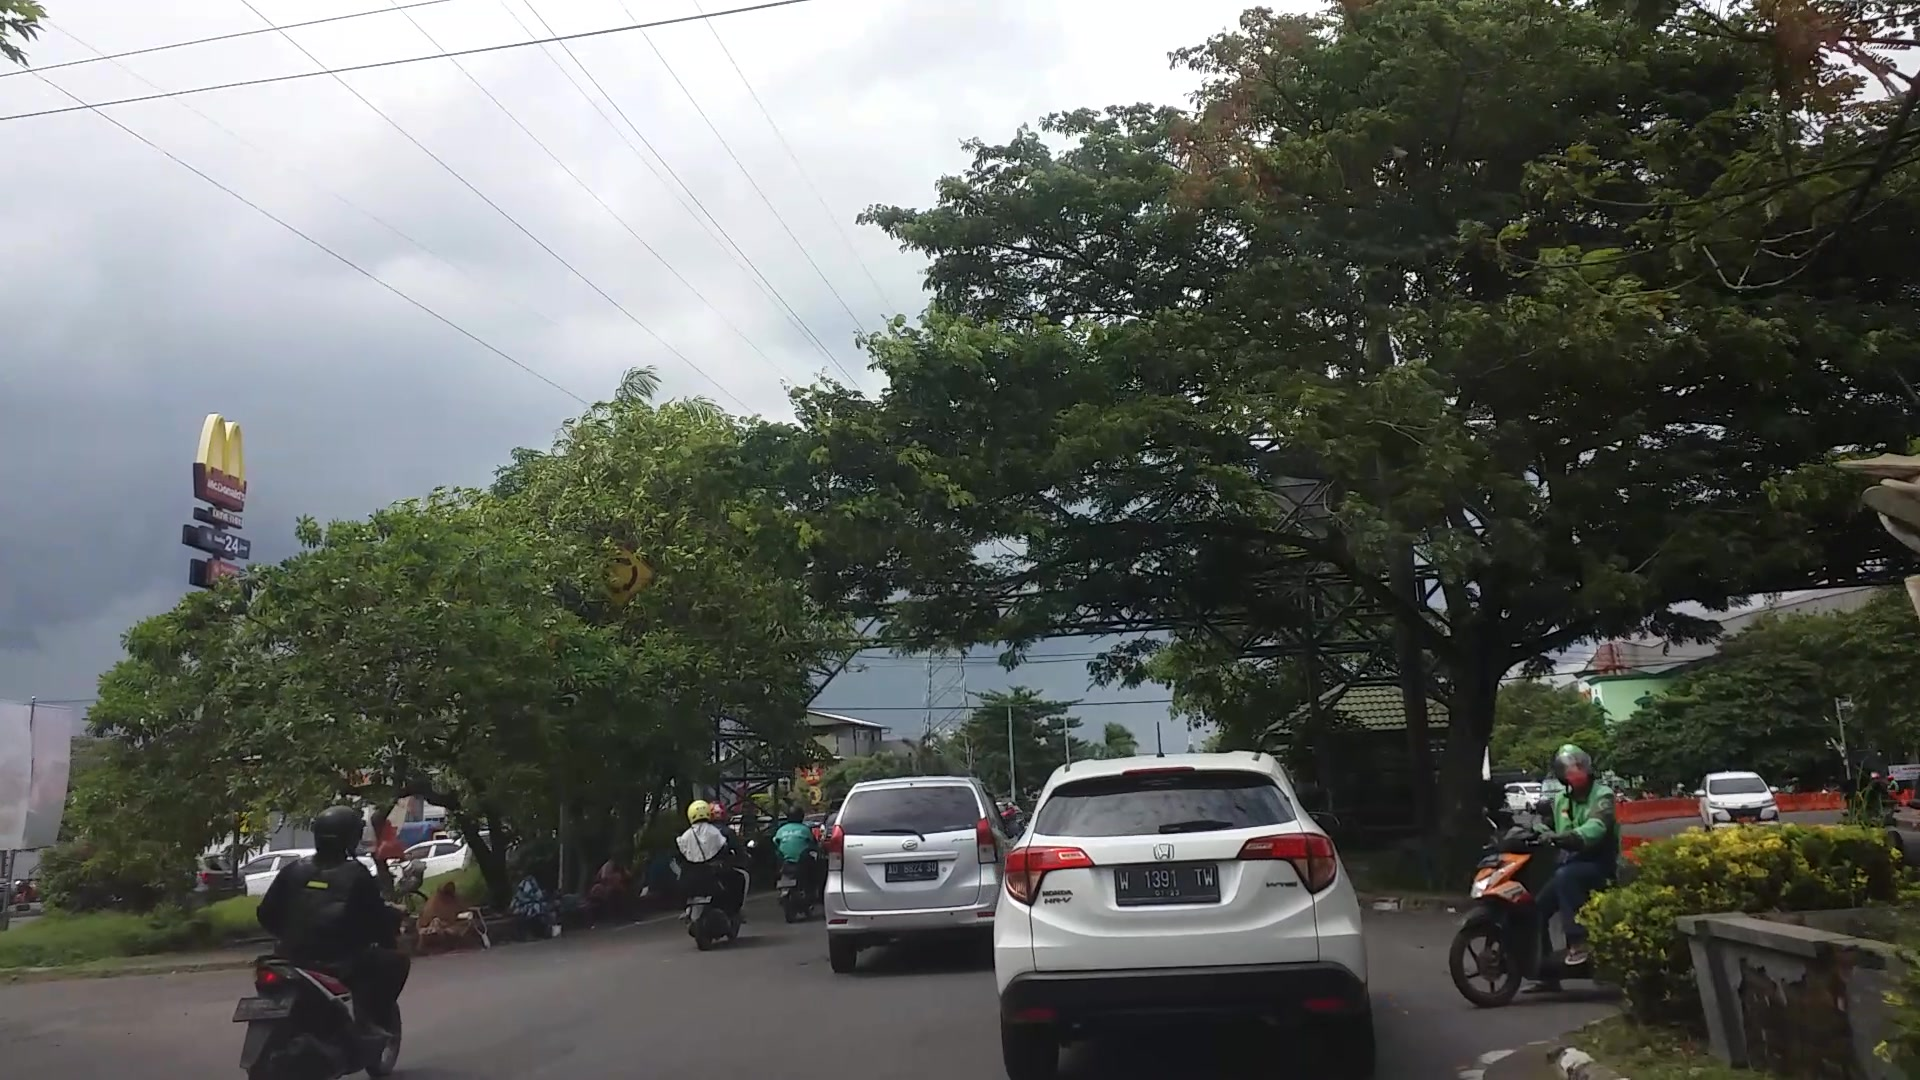plate_positive: (1114, 865, 1221, 905)
